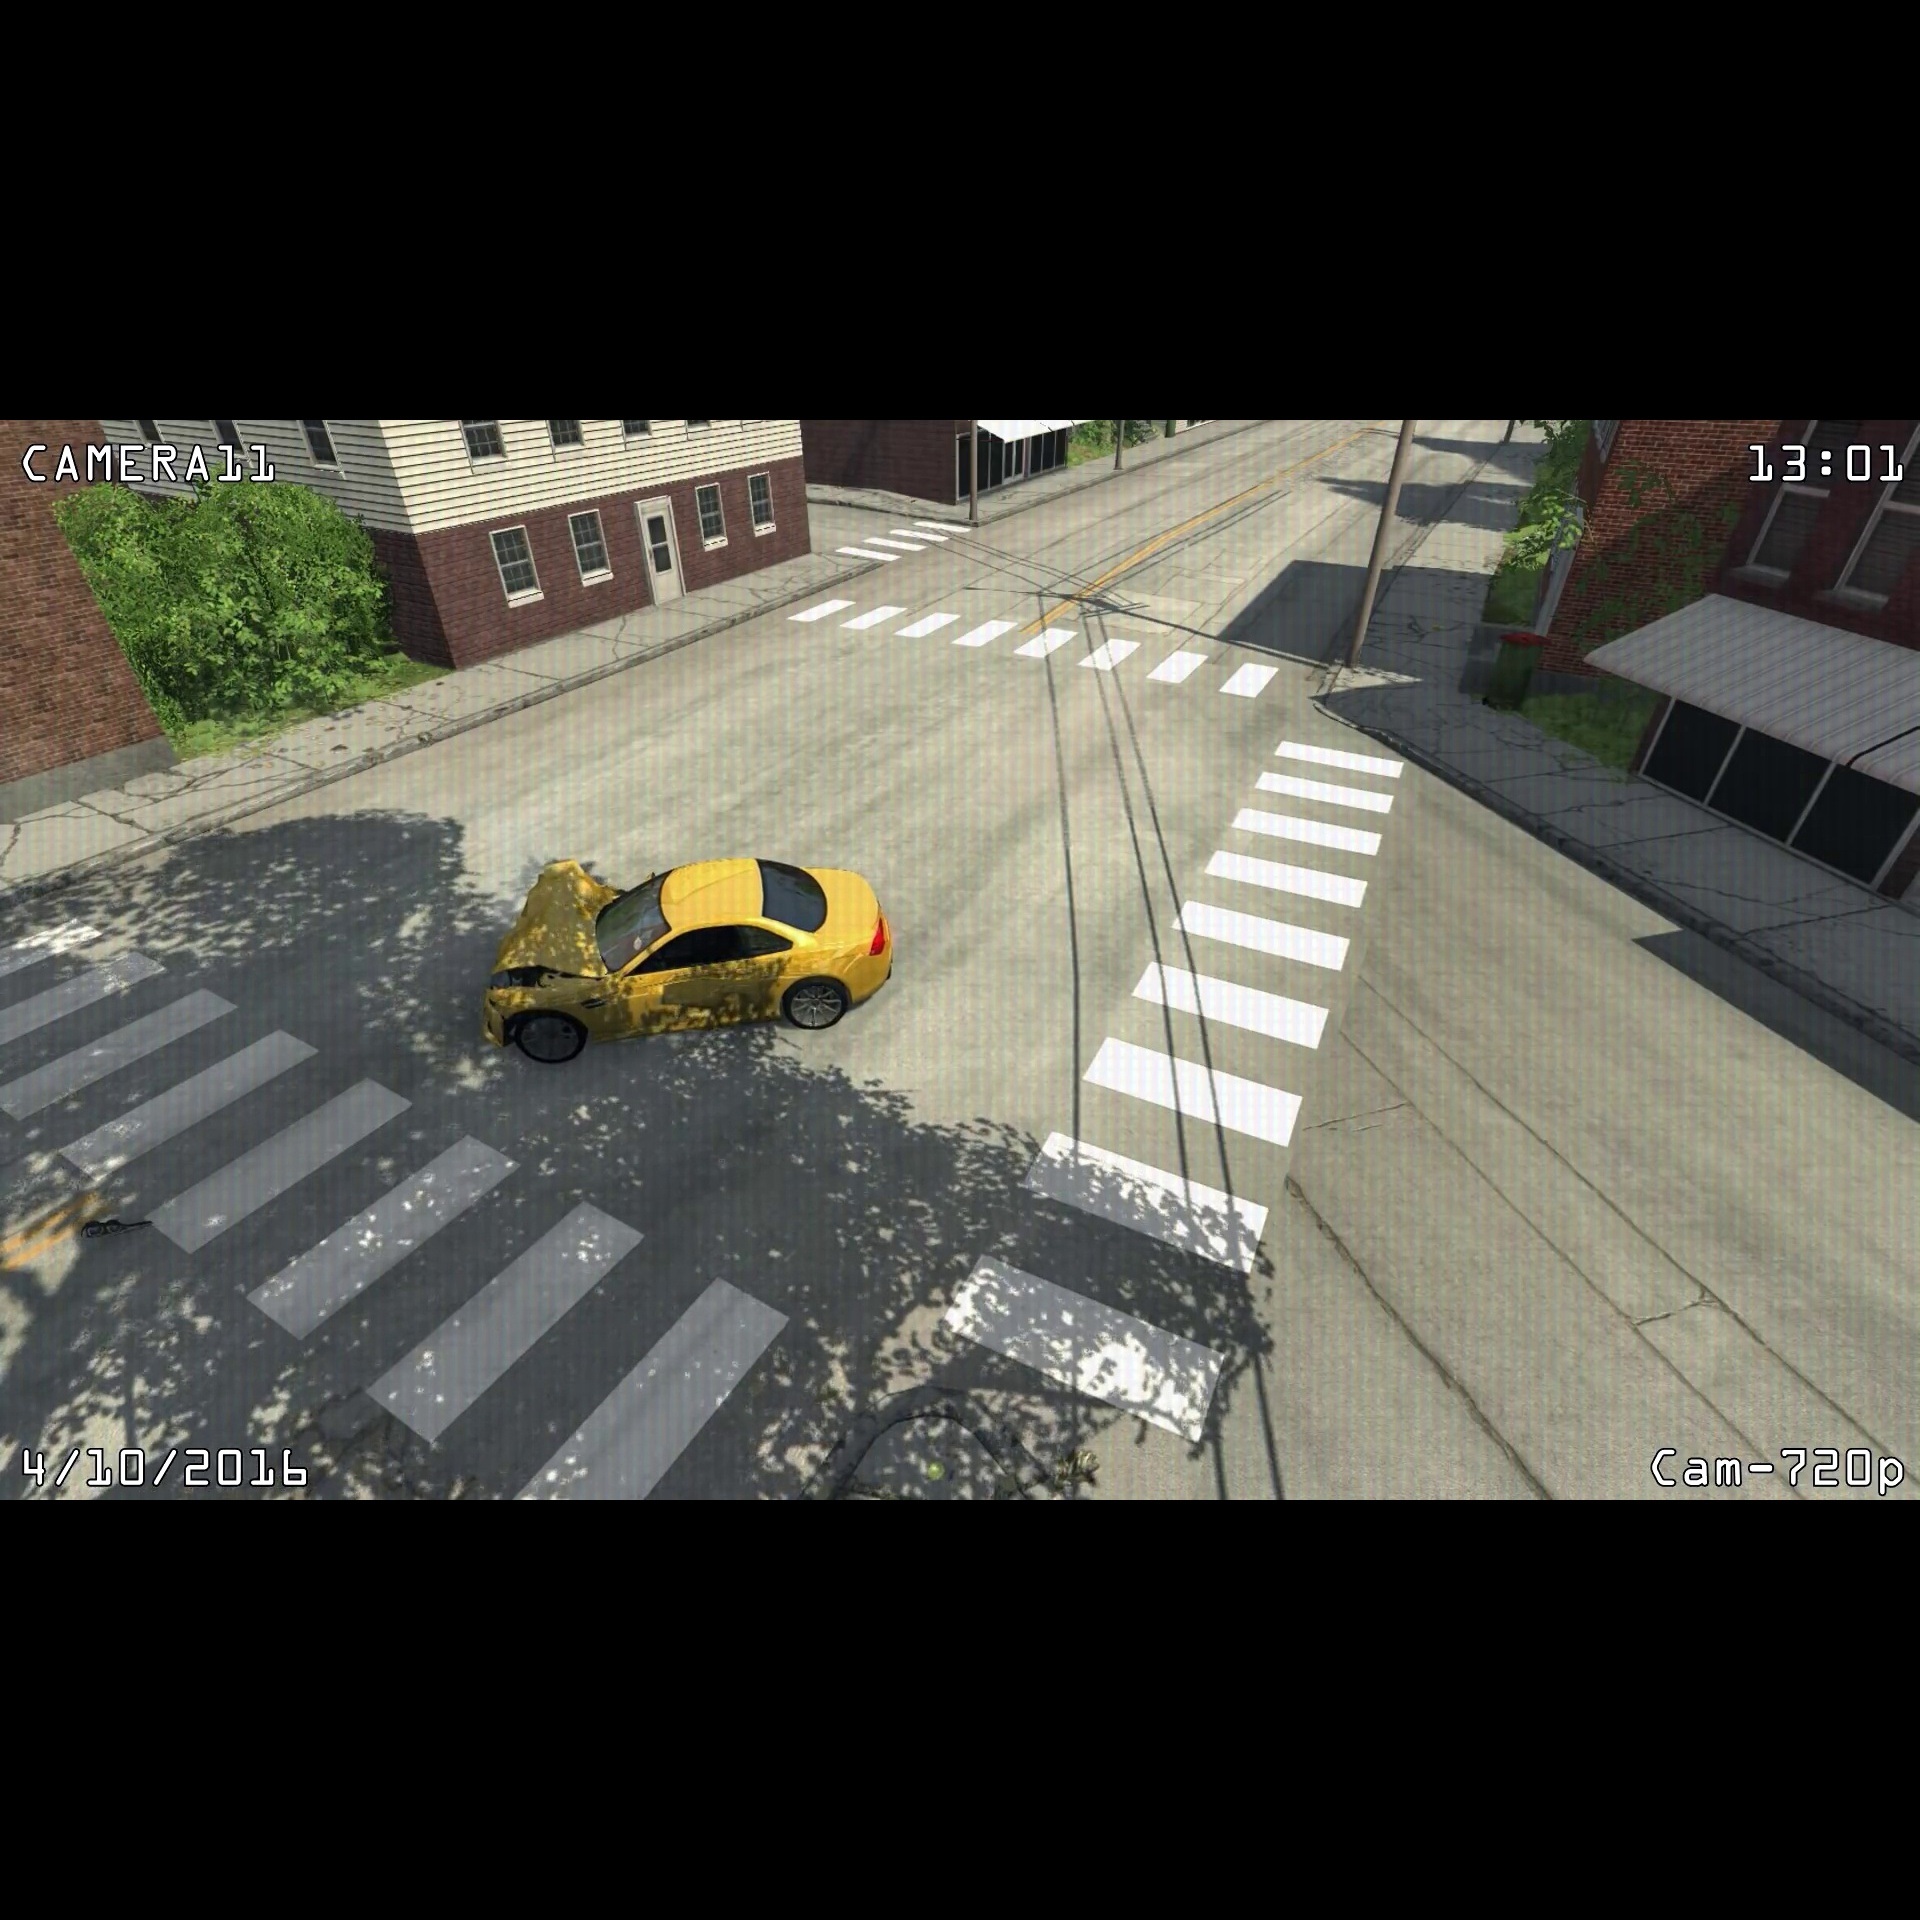vehicle: (475, 840, 900, 1073)
